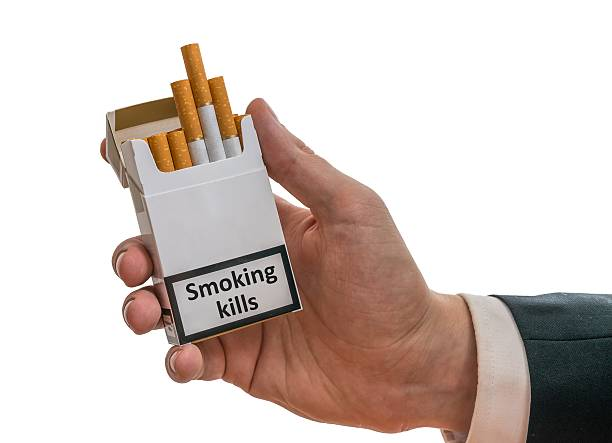cigarette: (104, 95, 303, 348), (180, 41, 226, 162), (170, 78, 210, 169), (207, 75, 242, 159), (147, 132, 177, 174), (167, 128, 193, 171), (234, 112, 245, 153)
